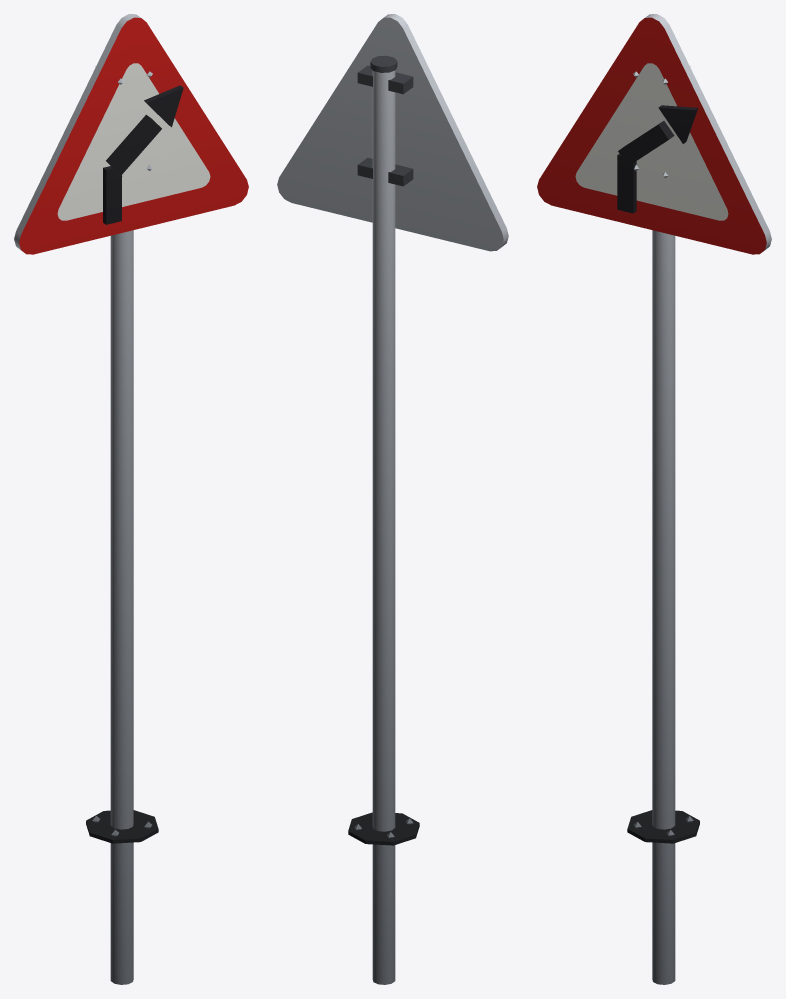
Rendered from Sign_Curve_R.fbx.
The picture shows the model from 3 angles, left to right: view 1: azimuth 30°, elevation 25°; view 2: azimuth 150°, elevation 25°; view 3: azimuth 330°, elevation 25°; orthographic projection.
Visible parts, largest first — view 1: Sign_Curve_R_LOD0; view 2: Sign_Curve_R_LOD0; view 3: Sign_Curve_R_LOD0.
Part boxes in pixels (x1,y1,x2,y2): Sign_Curve_R_LOD0: [14, 14, 248, 984]; Sign_Curve_R_LOD0: [277, 14, 508, 984]; Sign_Curve_R_LOD0: [537, 14, 771, 984].
Size of what is drawn, in the model's own units: 0.7928 by 3.2 by 0.224.
Materials: 1 (1 with a texture image).
